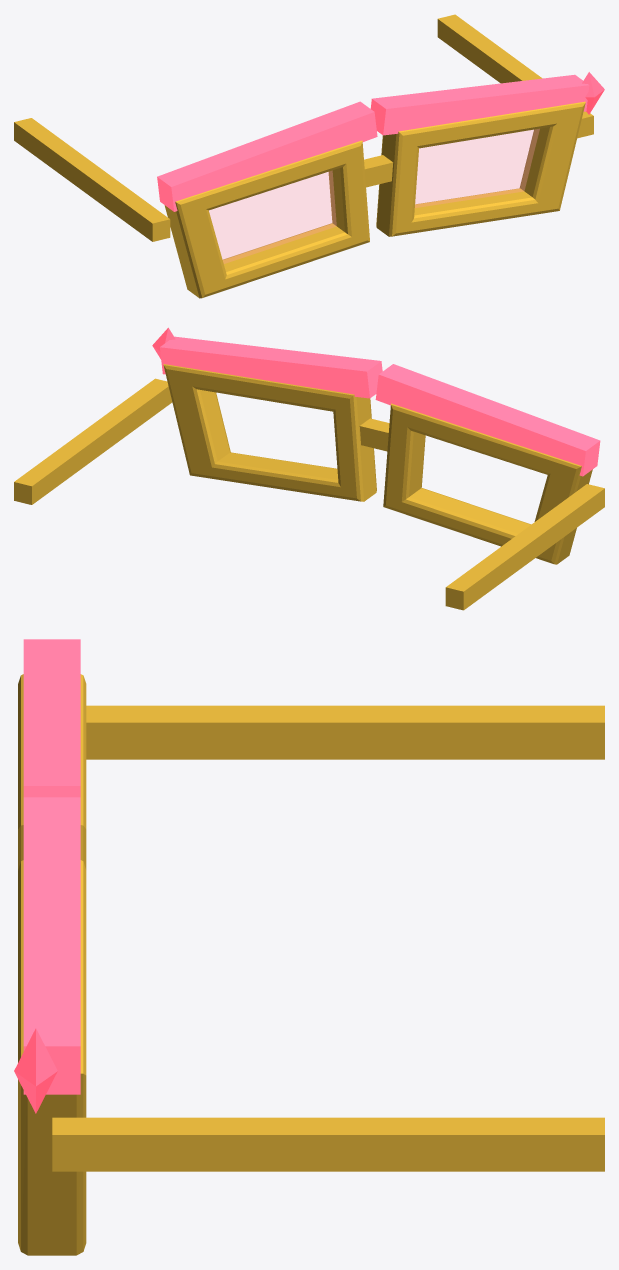
The model's file is gl_eqko4.glb.
3 views of the same model, one above another, from view 1: azimuth 30°, elevation 25°; view 2: azimuth 150°, elevation 25°; view 3: azimuth 270°, elevation 25° (orthographic). The views are drawn at different scales.
Size of the model in its own units: 1.96 by 0.6041 by 1.12.
